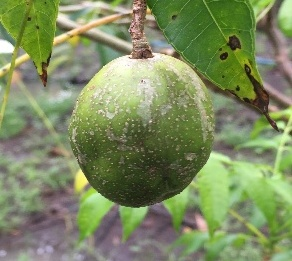Coc: (67, 53, 215, 206)
